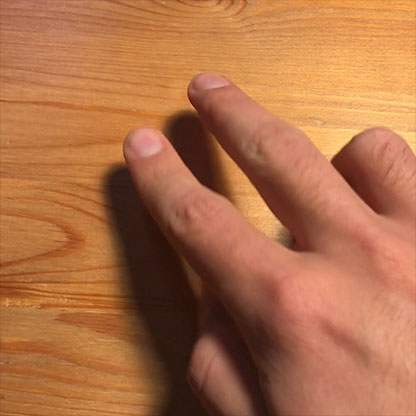fingertip: (117, 120, 170, 167), (187, 67, 239, 100)
